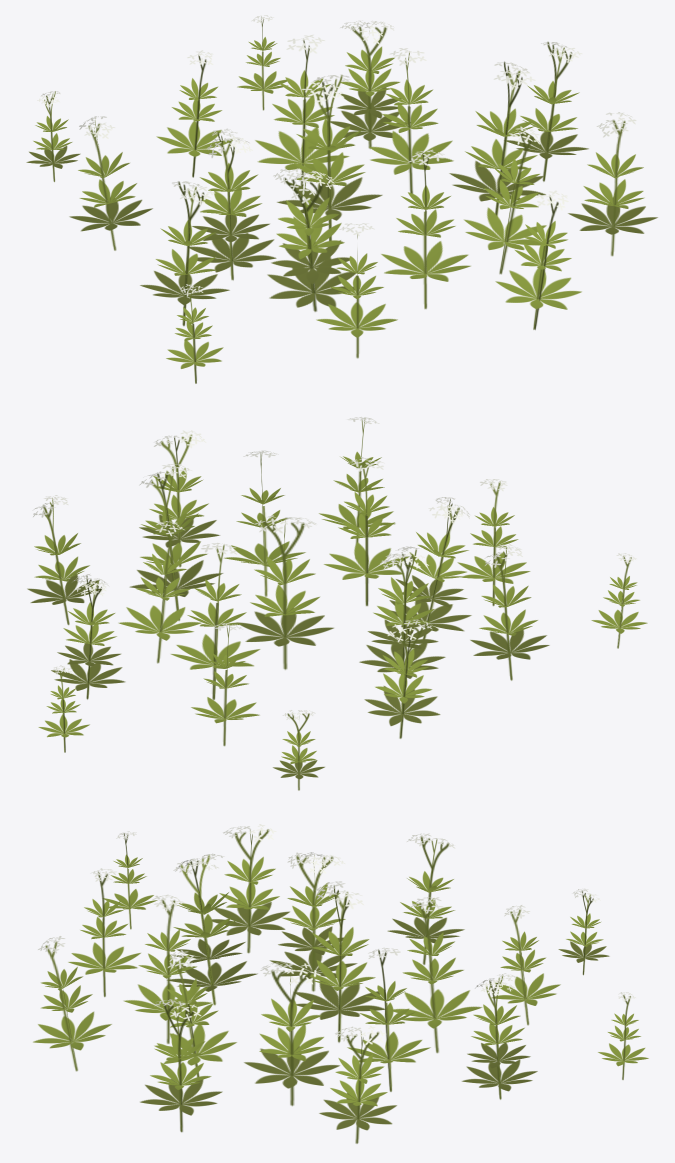
The model's file is Woodruff_Cluster_2.glb.
3 views of the same model, one above another, from view 1: azimuth 30°, elevation 25°; view 2: azimuth 150°, elevation 25°; view 3: azimuth 270°, elevation 25° (orthographic). The views are drawn at different scales.
Visible parts, largest first — view 1: Woodruff_Cluster_2; view 2: Woodruff_Cluster_2; view 3: Woodruff_Cluster_2.
Part boxes in pixels (x1=…): Woodruff_Cluster_2: x1=26, y1=15, x2=657, y2=383; Woodruff_Cluster_2: x1=27, y1=417, x2=647, y2=790; Woodruff_Cluster_2: x1=33, y1=824, x2=648, y2=1143.
Size of the model in its own units: 1.4 by 0.4024 by 1.52.
Materials: 1 (1 with a texture image).
